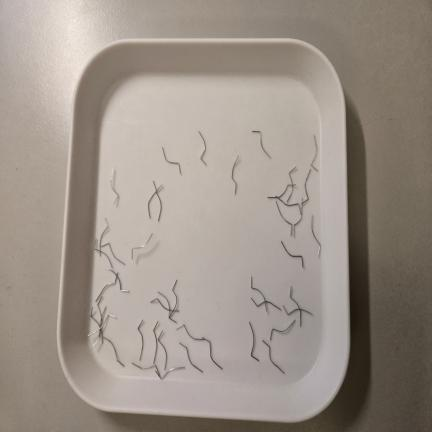probe: (179, 342, 203, 372), (263, 340, 284, 374), (281, 241, 304, 268), (131, 233, 153, 259), (162, 147, 181, 175), (252, 131, 271, 158), (311, 215, 321, 256), (249, 322, 259, 361), (110, 168, 119, 204), (232, 156, 239, 194), (199, 131, 206, 166), (276, 320, 295, 332), (271, 329, 275, 334), (270, 335, 272, 340)
